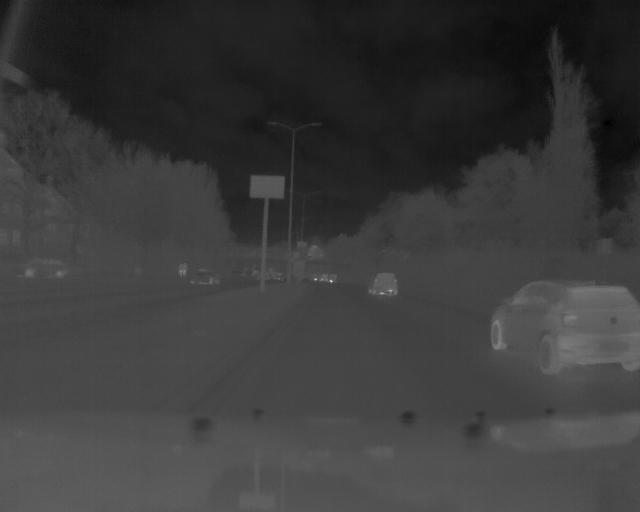car: (487, 278, 640, 377), (20, 255, 72, 283), (363, 270, 403, 297), (191, 268, 221, 287)
person: (173, 261, 187, 280)
